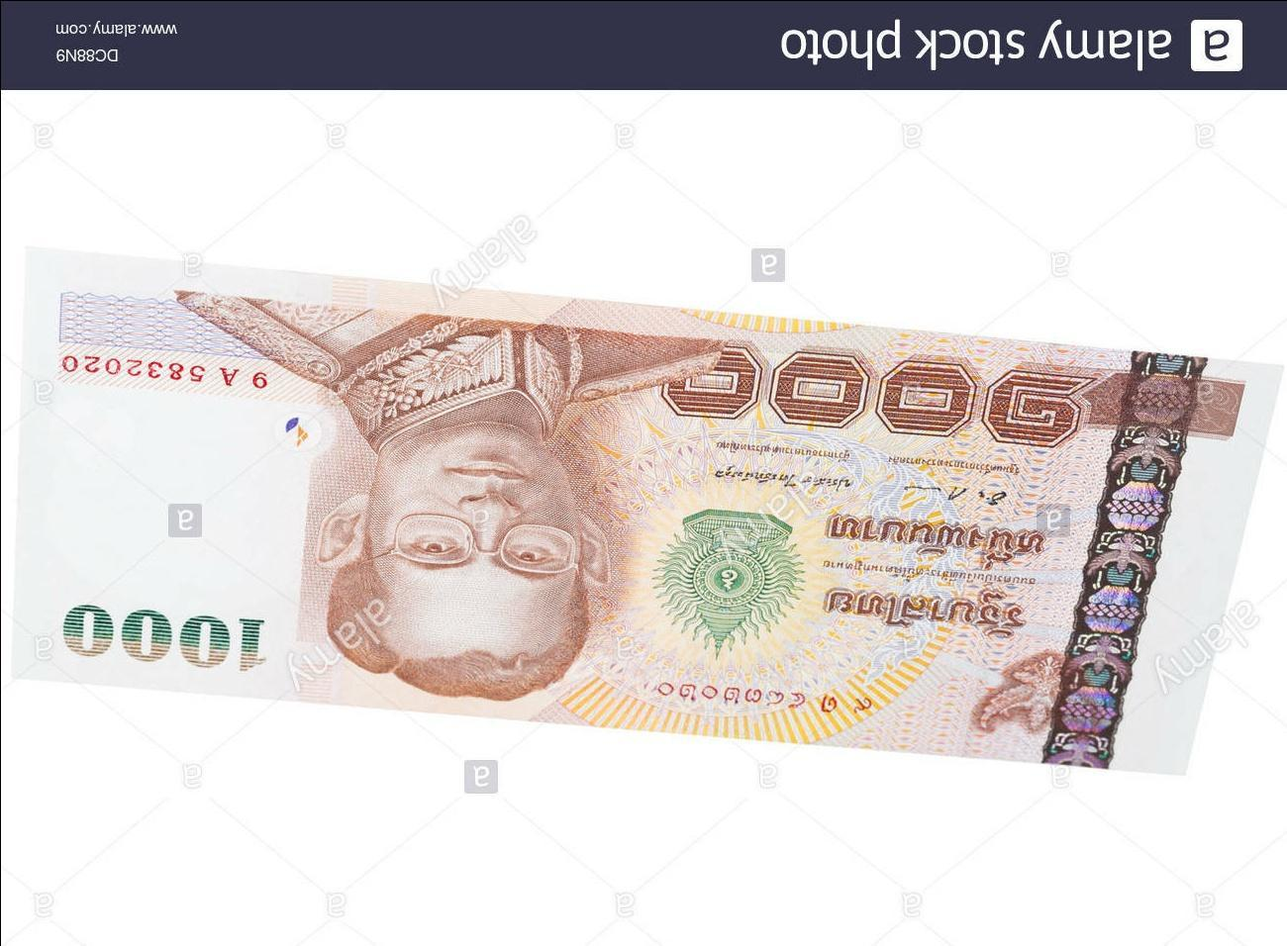1000BahtTai: (10, 251, 1271, 775)
